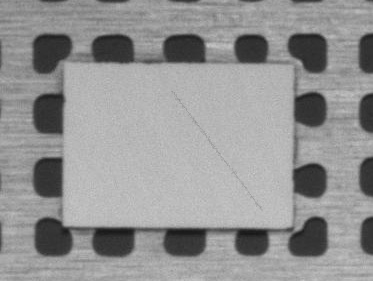DIE_CRACK: (228, 69, 348, 158)
